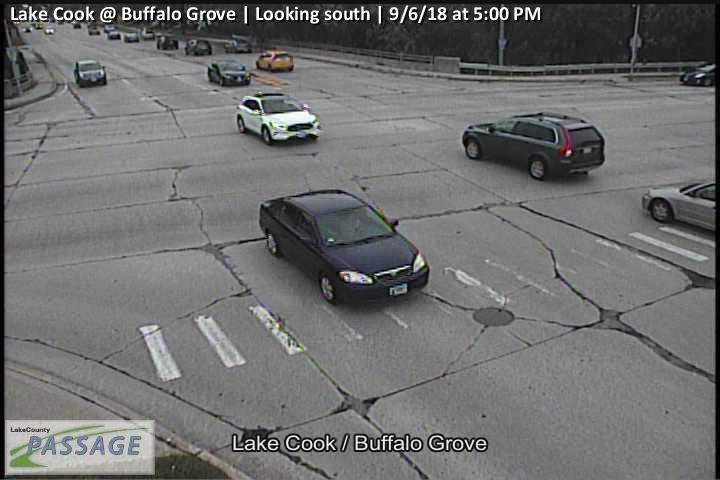SUV: (463, 112, 604, 179), (238, 92, 320, 144), (74, 58, 107, 88), (257, 50, 294, 73), (224, 36, 251, 53), (185, 39, 211, 55), (156, 34, 178, 50), (122, 31, 138, 42), (141, 26, 154, 39)
Sedan: (259, 189, 430, 305), (208, 59, 251, 86), (87, 27, 100, 35), (109, 30, 120, 39), (105, 23, 115, 32)
